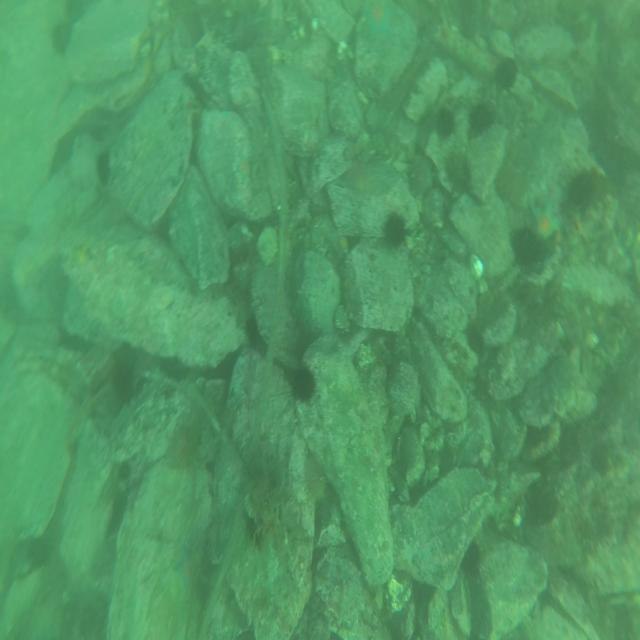echinus: (170, 425, 202, 474), (528, 478, 556, 526), (109, 358, 139, 401), (301, 458, 328, 504), (445, 146, 471, 190), (468, 96, 493, 138), (288, 364, 314, 402), (512, 223, 535, 264), (494, 55, 519, 92), (384, 208, 407, 248), (434, 104, 456, 139), (62, 0, 86, 25), (52, 22, 70, 52)
starfish: (530, 194, 560, 243), (363, 0, 394, 34)
